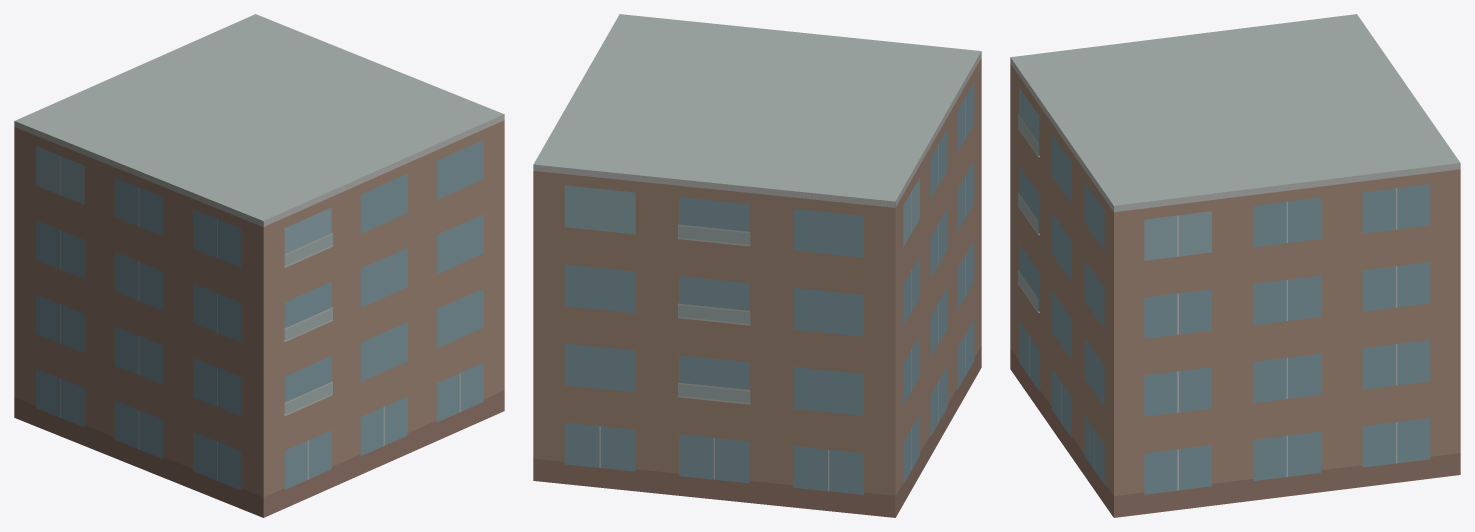
Rendered from residential-b7c90888-dac7-470d-a21d-f4bf608d48d5.glb.
3 views of the same model, side by side, from view 1: azimuth 30°, elevation 25°; view 2: azimuth 150°, elevation 25°; view 3: azimuth 270°, elevation 25° (orthographic). The views are drawn at different scales.
Parts seen in each view (by area): view 1: residential-b7c90888-dac7-470d-a21d-f4bf608d48d5.tmp; view 2: residential-b7c90888-dac7-470d-a21d-f4bf608d48d5.tmp; view 3: residential-b7c90888-dac7-470d-a21d-f4bf608d48d5.tmp.
Boxes of the visible parts, x1,y1,x2,y2 form: residential-b7c90888-dac7-470d-a21d-f4bf608d48d5.tmp: [14, 14, 504, 517]; residential-b7c90888-dac7-470d-a21d-f4bf608d48d5.tmp: [533, 14, 981, 517]; residential-b7c90888-dac7-470d-a21d-f4bf608d48d5.tmp: [1010, 14, 1460, 517].
Size of the model in its own units: 16.12 by 12.2 by 15.97.
